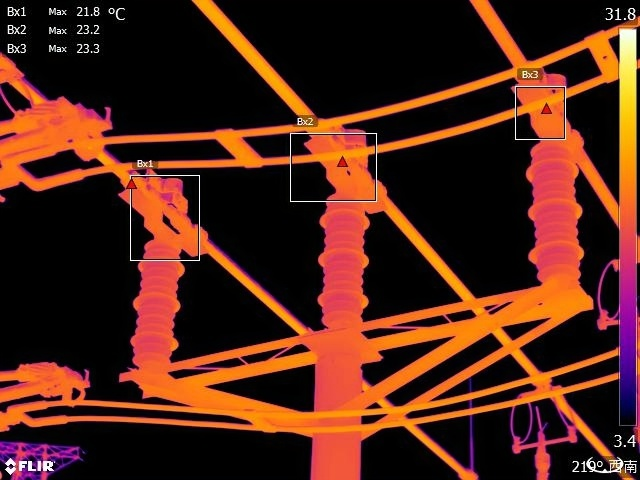post insulator: (309, 193, 375, 336), (526, 142, 591, 285), (126, 237, 187, 361)
